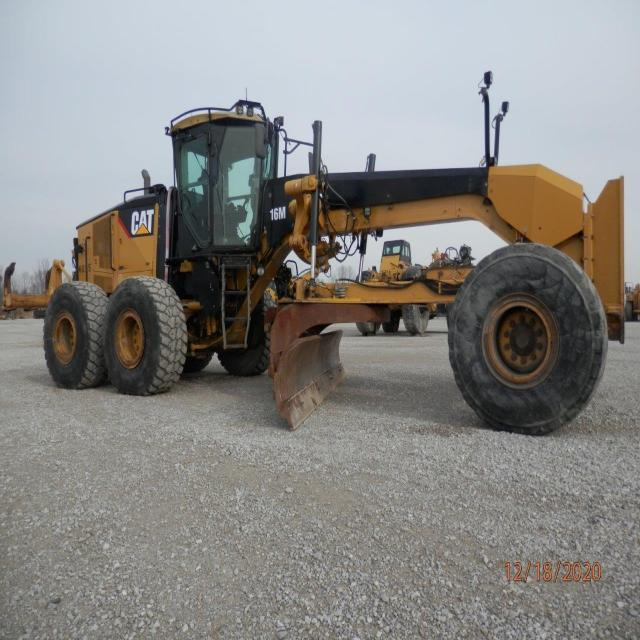buldozerpayloadergrader: (39, 100, 638, 463)
